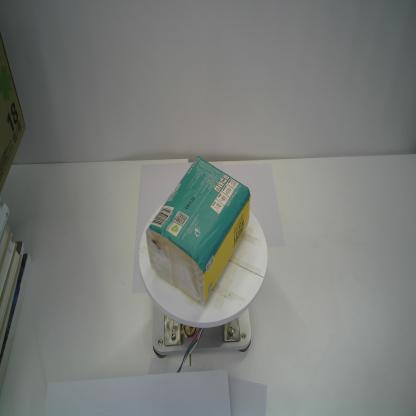Tissue: (145, 156, 251, 307)
